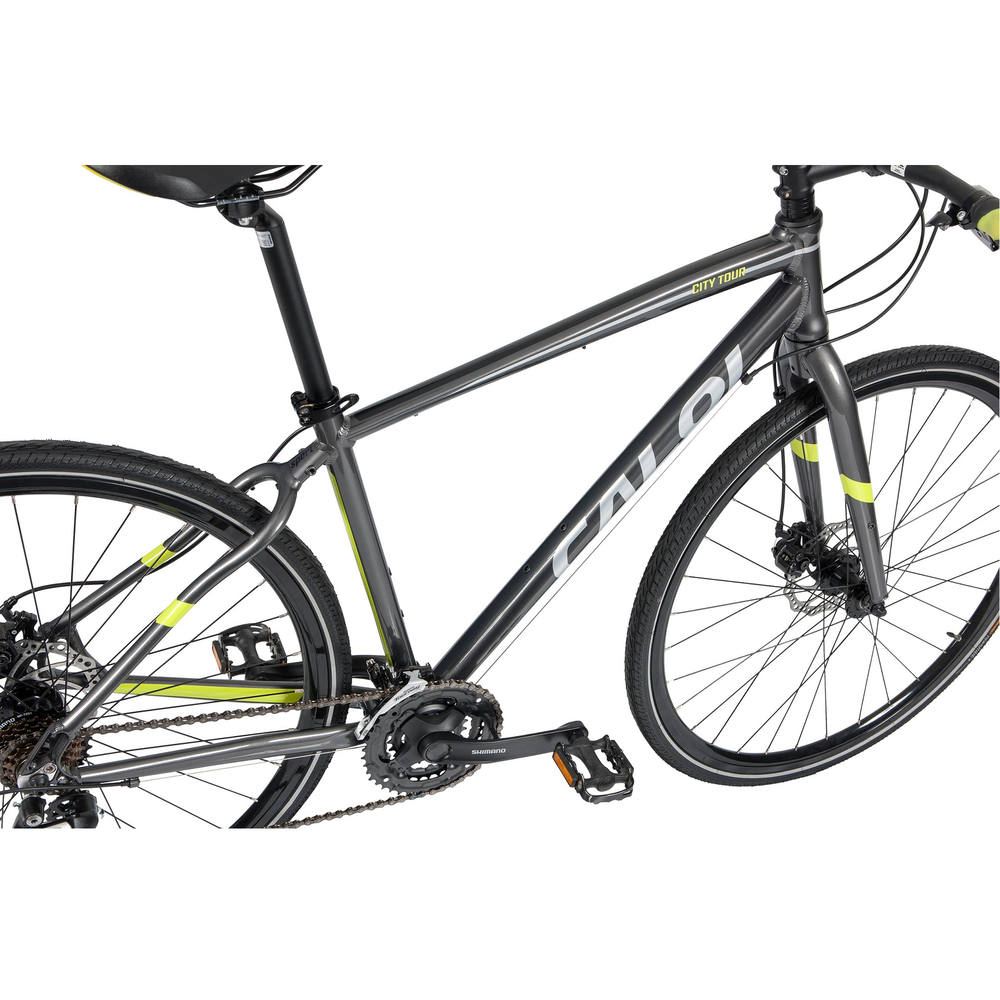UrbanBike: (4, 136, 1000, 855)
